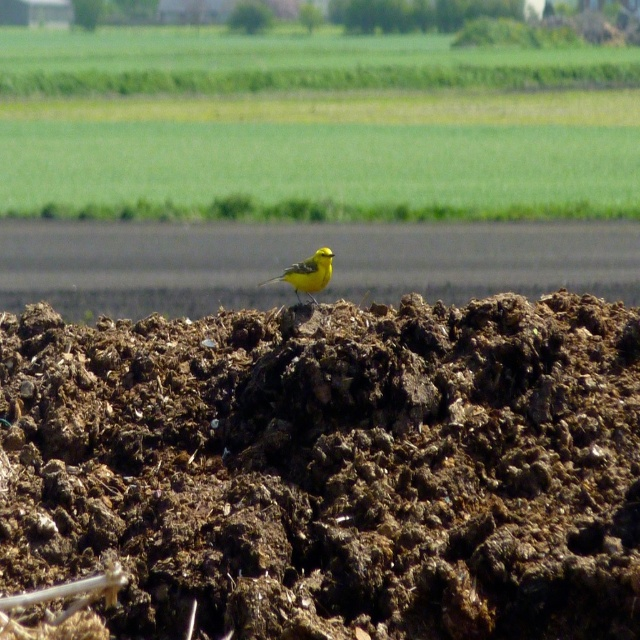Canary: (257, 247, 335, 303)
